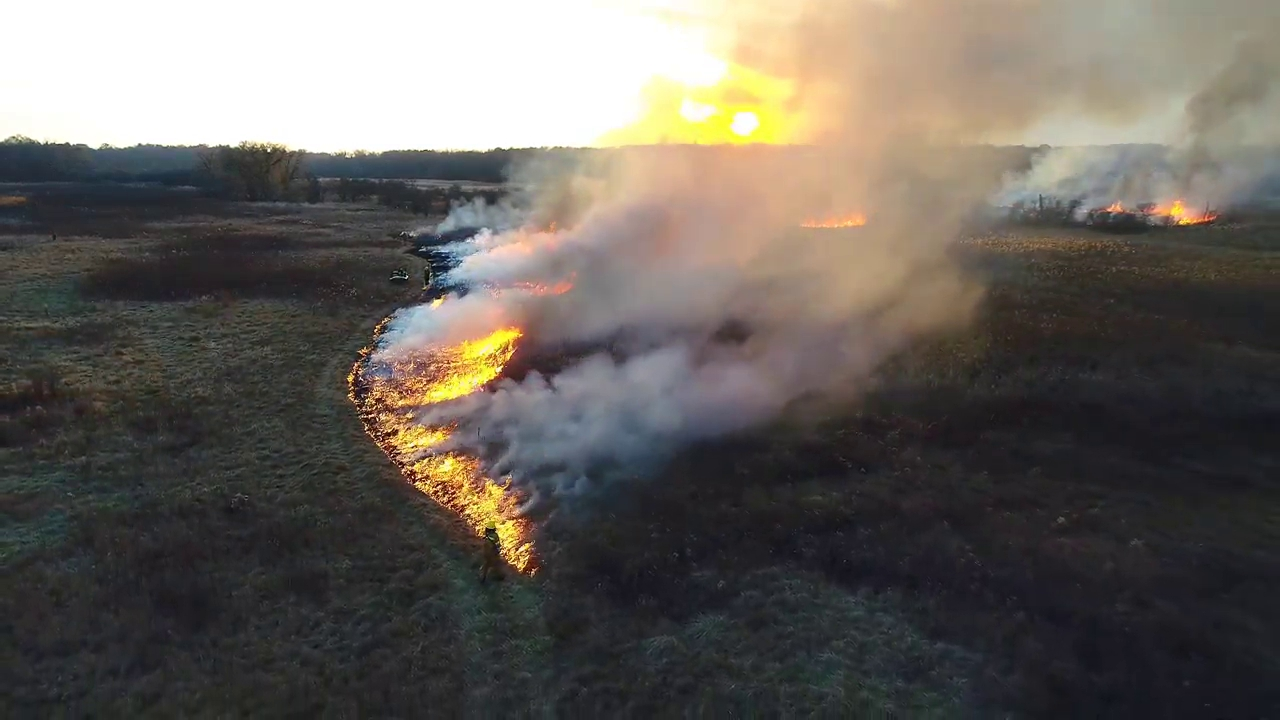forest_fire: (348, 317, 537, 572), (1135, 200, 1216, 226), (801, 214, 865, 229), (412, 296, 447, 308)
